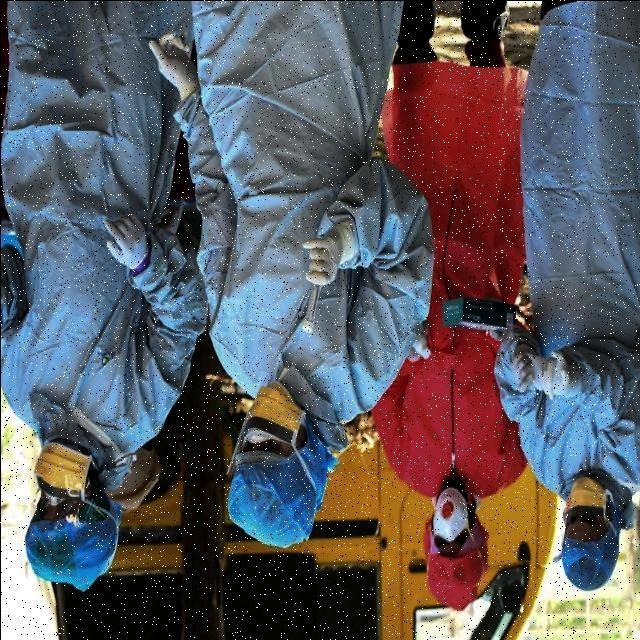apron: (84, 194, 155, 272), (128, 20, 200, 90), (499, 350, 587, 407), (292, 218, 364, 286)
